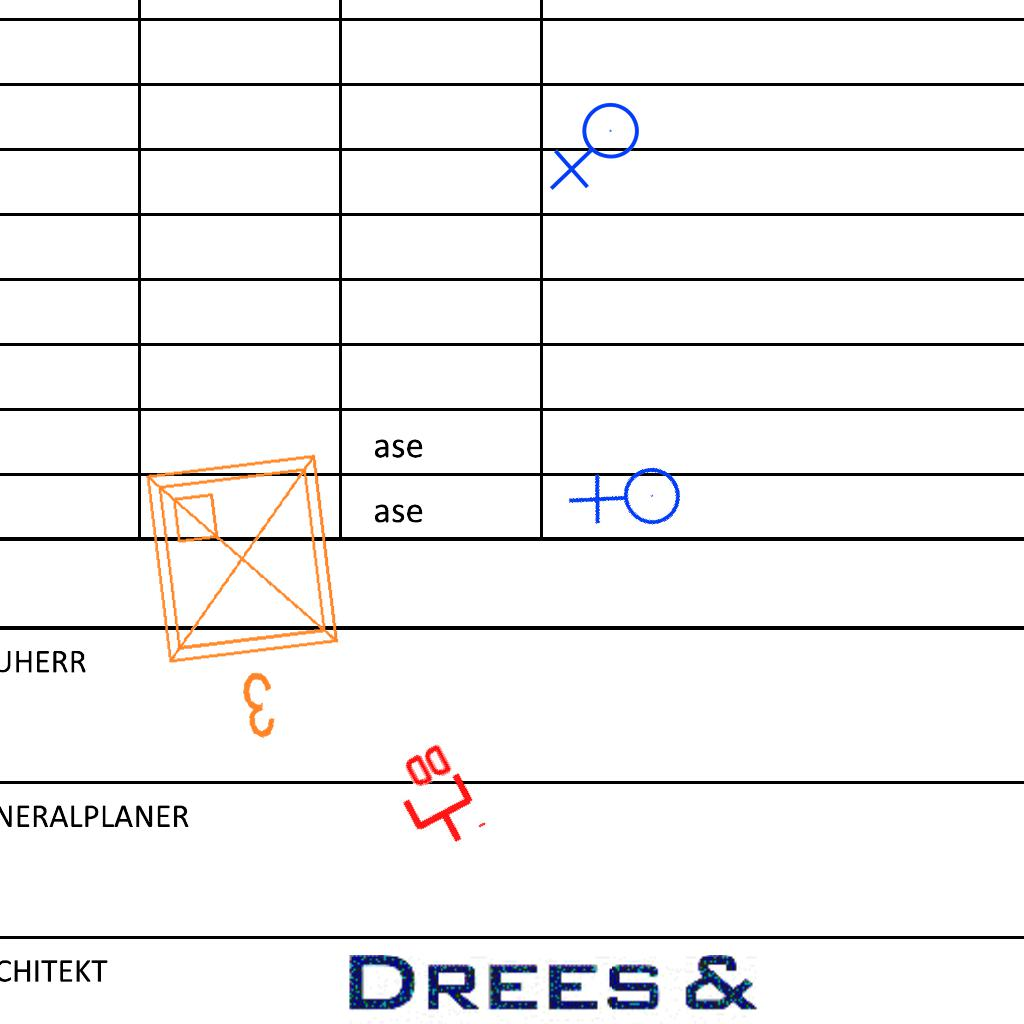Datenanschluss_zweifach: (379, 736, 490, 861)
Einbaudownlights_LED_Konferenzraeume: (129, 437, 373, 761)
Elektroanschluss_allgemein_230V_Geraeteanschlussdose_230V: (563, 433, 700, 569), (549, 101, 648, 195)
